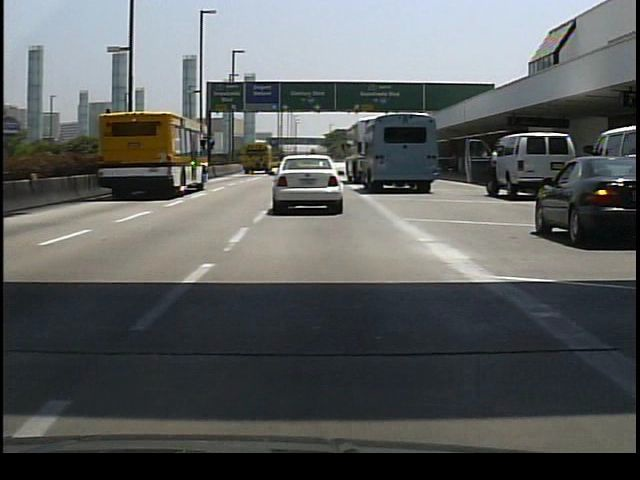person: (484, 138, 502, 204)
